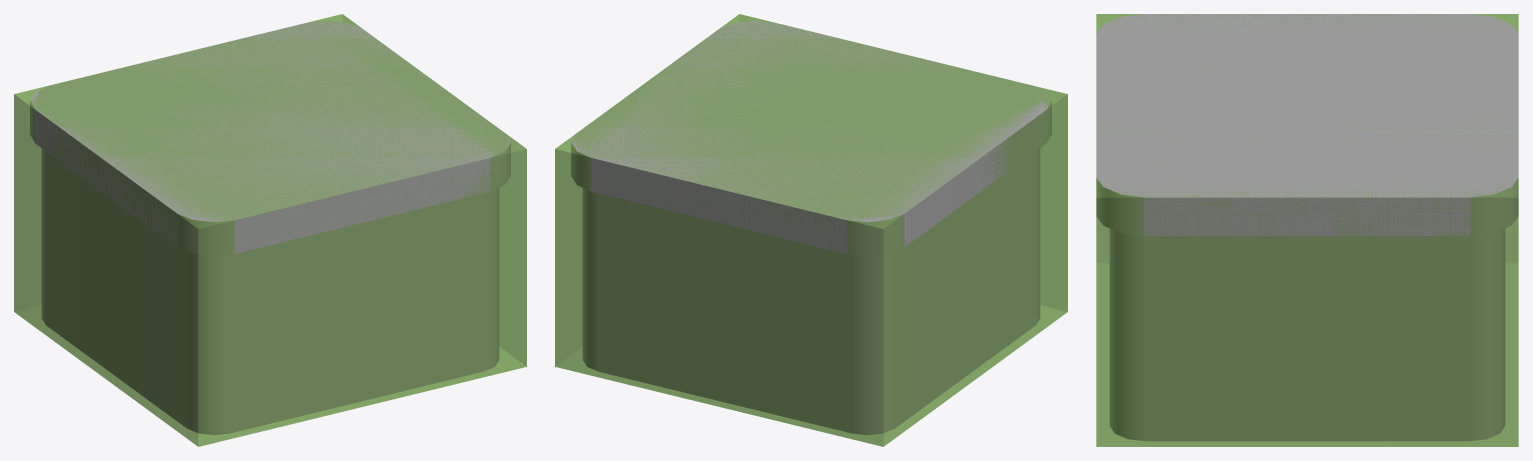
File: p_CablingSmallConnector_01_a.fbx
The picture shows the model from 3 angles, left to right: view 1: azimuth 30°, elevation 25°; view 2: azimuth 150°, elevation 25°; view 3: azimuth 270°, elevation 25°; orthographic projection. The views are drawn at different scales.
Visible parts, largest first — view 1: p_CablingSmallConnector_01_a_col, p_CablingSmallConnector_01_a_LOD0; view 2: p_CablingSmallConnector_01_a_col, p_CablingSmallConnector_01_a_LOD0; view 3: p_CablingSmallConnector_01_a_LOD0, p_CablingSmallConnector_01_a_col.
Boxes of the visible parts, bbox=[...] form: p_CablingSmallConnector_01_a_col: bbox=[14, 14, 526, 446]; p_CablingSmallConnector_01_a_LOD0: bbox=[30, 21, 510, 435]; p_CablingSmallConnector_01_a_col: bbox=[555, 14, 1067, 446]; p_CablingSmallConnector_01_a_LOD0: bbox=[571, 21, 1051, 435]; p_CablingSmallConnector_01_a_LOD0: bbox=[1096, 14, 1518, 441]; p_CablingSmallConnector_01_a_col: bbox=[1096, 14, 1518, 446].
Size of what is drawn, in the model's own units: 10.07 by 6.38 by 9.8.
